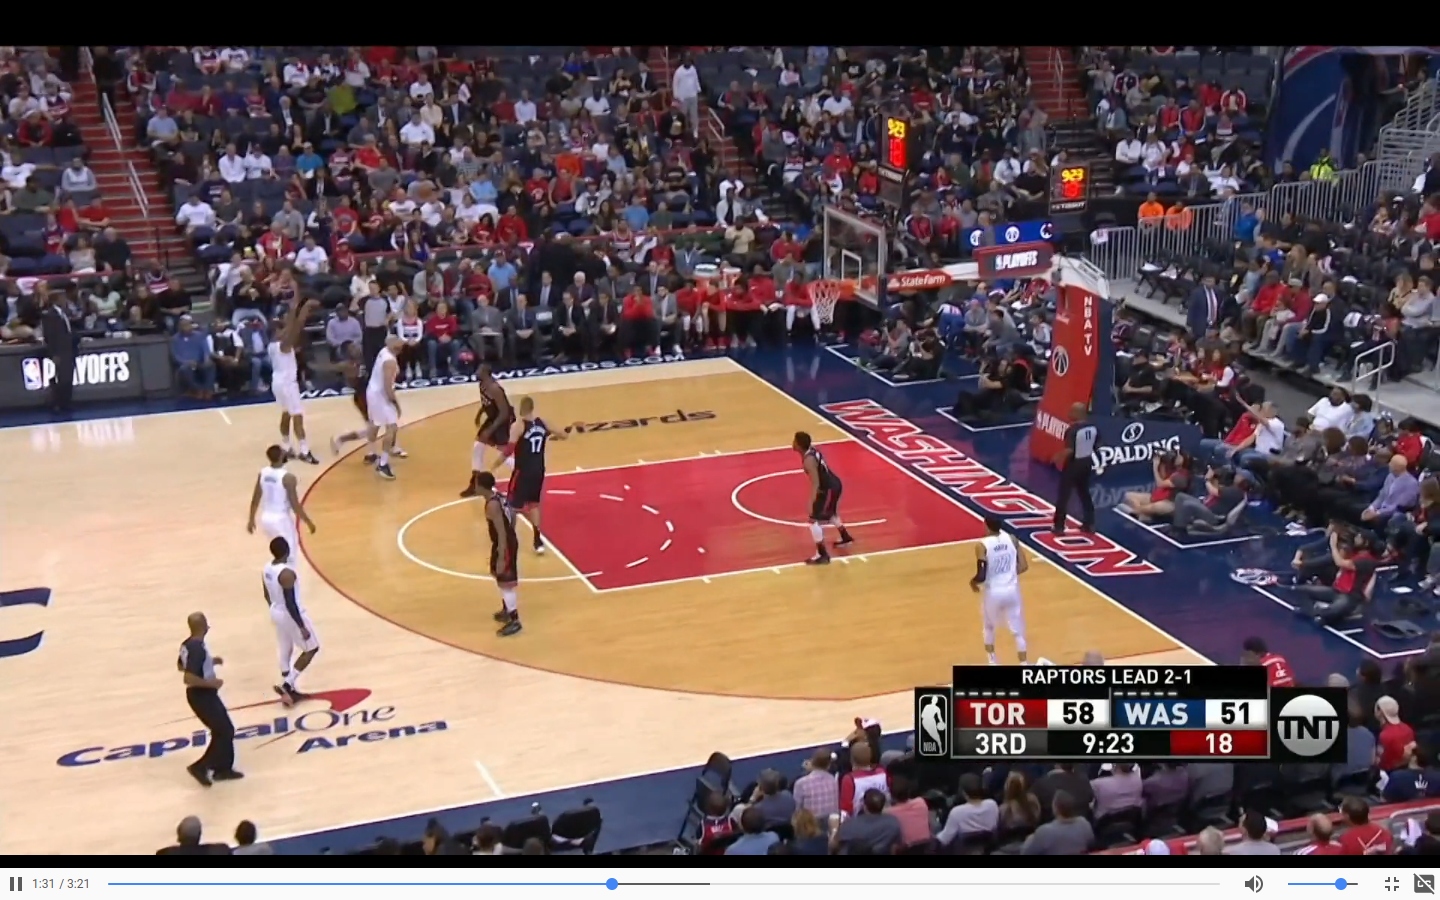basketball: (413, 177, 438, 208)
basketball player: (258, 542, 322, 709), (972, 503, 1035, 665), (473, 466, 527, 645), (796, 431, 856, 577), (242, 442, 307, 559), (267, 300, 321, 440), (507, 388, 553, 552), (372, 334, 413, 496), (332, 331, 372, 460), (470, 357, 513, 466)
referee: (179, 608, 236, 794), (1055, 396, 1102, 540)
